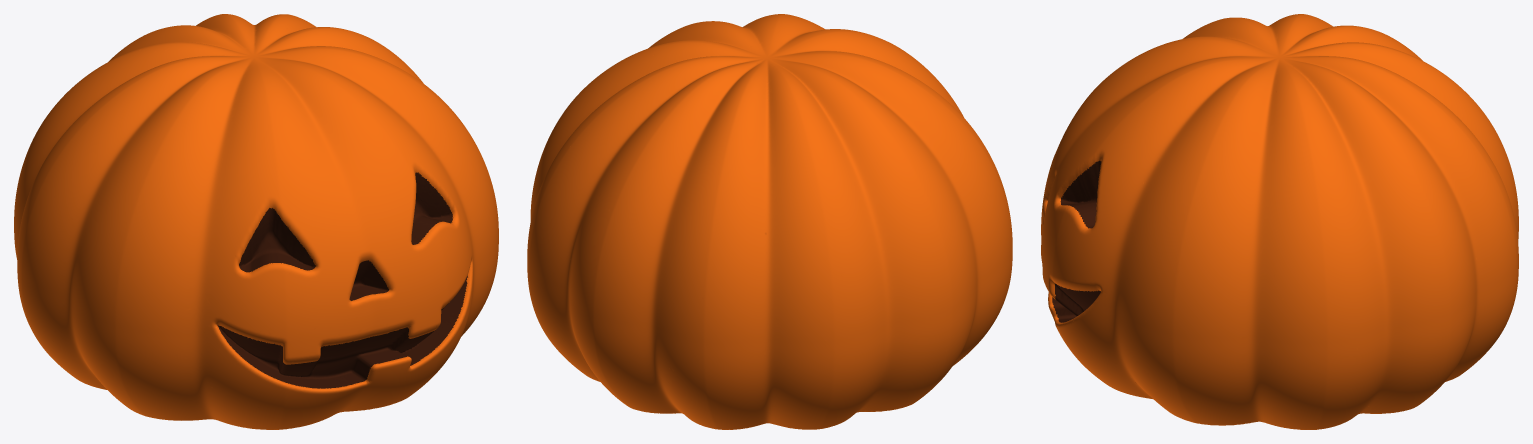
File: jack_o_lantern.obj
3 views of the same model, side by side, from view 1: azimuth 30°, elevation 25°; view 2: azimuth 150°, elevation 25°; view 3: azimuth 270°, elevation 25° (orthographic).
Parts seen in each view (by area): view 1: jack_o_lantern; view 2: jack_o_lantern; view 3: jack_o_lantern.
Boxes of the visible parts, left/top/right/bottom form: jack_o_lantern: left=14, top=14, right=498, bottom=429; jack_o_lantern: left=527, top=14, right=1012, bottom=429; jack_o_lantern: left=1041, top=14, right=1518, bottom=429.
Bounding box in the file's own units: 98.6 × 67.18 × 97.28.
